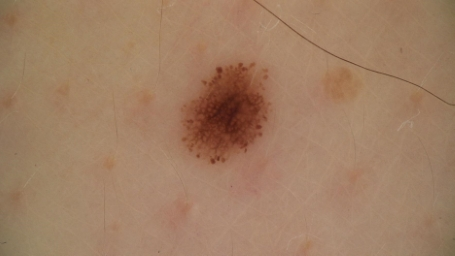nevus: (174, 63, 269, 167)
